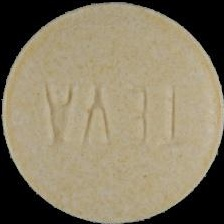42291-667: (0, 0, 224, 224)
